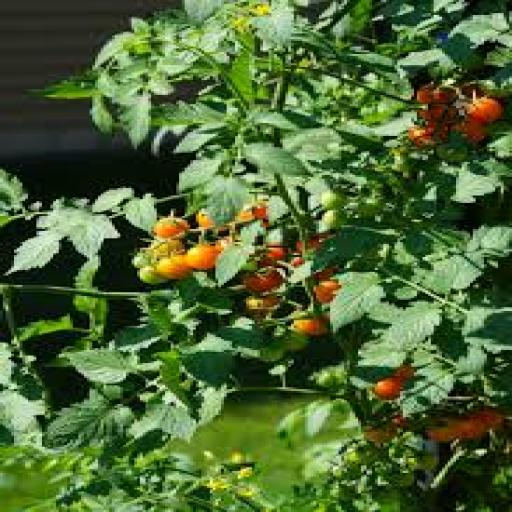tomato: (241, 269, 285, 294), (468, 97, 503, 124), (154, 256, 193, 279), (451, 416, 486, 441), (185, 244, 218, 269), (454, 118, 486, 143), (154, 216, 190, 238), (291, 317, 330, 336), (473, 408, 506, 430), (417, 86, 456, 104), (417, 105, 458, 122), (364, 423, 397, 444), (373, 377, 402, 400), (149, 239, 184, 258), (426, 423, 458, 443), (314, 280, 341, 303), (437, 144, 467, 163), (409, 127, 436, 148), (247, 297, 279, 314), (406, 453, 436, 471), (359, 196, 383, 217), (319, 190, 344, 210), (261, 343, 285, 363), (138, 267, 165, 284), (283, 332, 307, 351), (308, 233, 332, 251), (322, 211, 346, 229), (431, 88, 456, 104), (462, 84, 484, 100), (266, 244, 288, 260), (196, 211, 215, 229), (415, 86, 433, 104), (395, 365, 414, 381), (216, 237, 235, 253), (132, 252, 151, 268), (252, 203, 268, 219), (314, 269, 335, 281), (236, 211, 254, 223), (392, 416, 408, 428), (291, 257, 304, 268)
